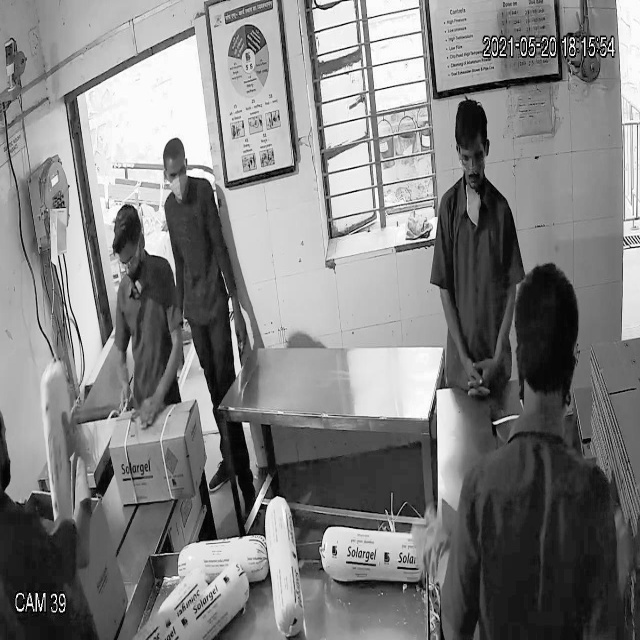Gafas: (451, 131, 489, 174), (111, 241, 148, 276)
